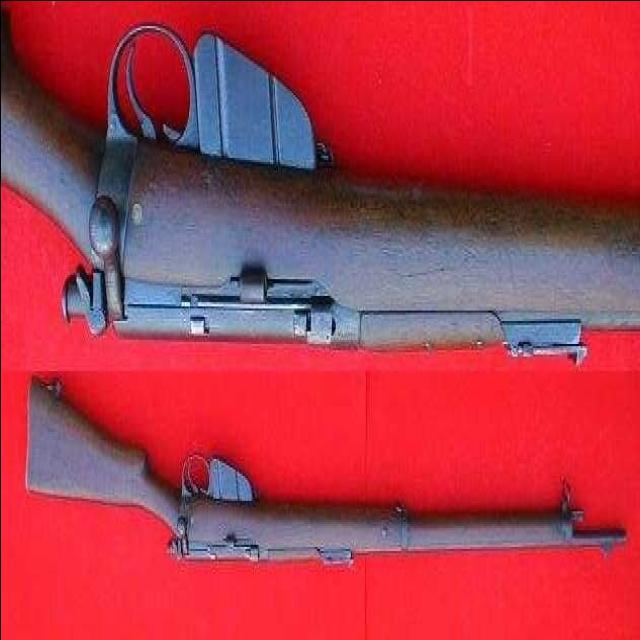heavyweapon: (1, 1, 640, 384), (21, 365, 637, 591)
